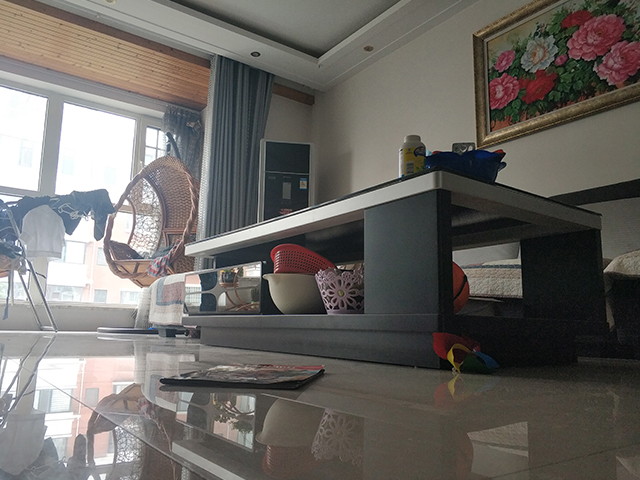book: (157, 360, 327, 392)
curtain: (202, 52, 270, 244)
table: (182, 164, 613, 375)
